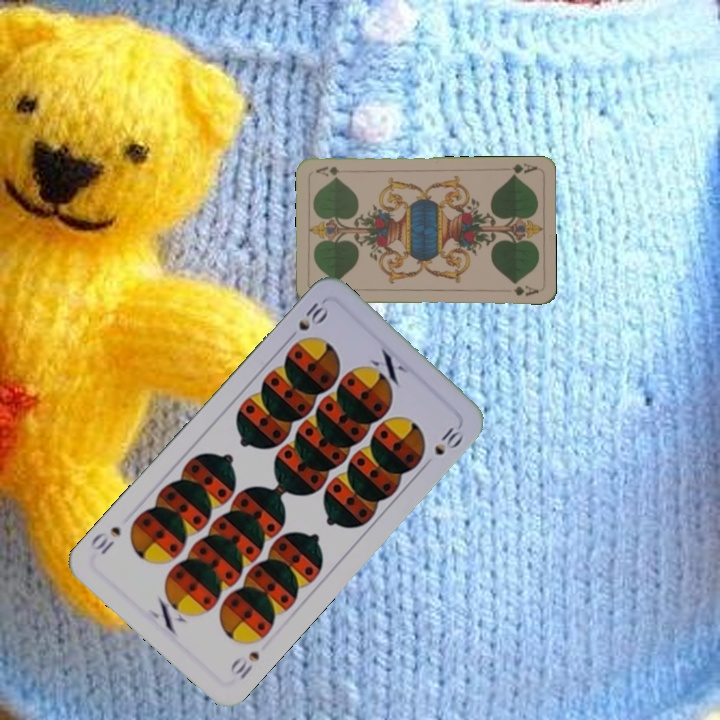GA: (507, 159, 539, 179)
S10: (294, 298, 331, 334), (226, 647, 262, 683)
